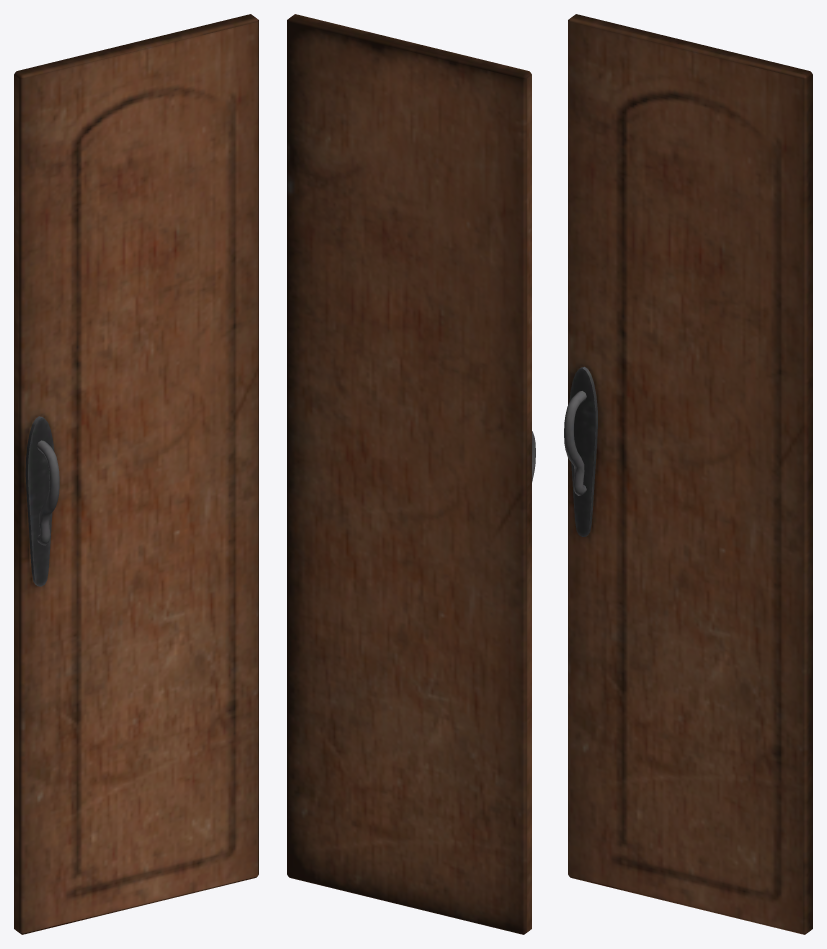
Rendered from Wardrobe_Right.fbx.
3 views of the same model, side by side, from view 1: azimuth 30°, elevation 25°; view 2: azimuth 150°, elevation 25°; view 3: azimuth 330°, elevation 25° (orthographic).
Parts seen in each view (by area): view 1: WardrobeCoverRight_LOD0; view 2: WardrobeCoverRight_LOD0; view 3: WardrobeCoverRight_LOD0.
Boxes of the visible parts, bbox=[...] form: WardrobeCoverRight_LOD0: bbox=[14, 14, 258, 934]; WardrobeCoverRight_LOD0: bbox=[287, 14, 535, 934]; WardrobeCoverRight_LOD0: bbox=[564, 14, 812, 934].
Size of the model in its own units: 18.18 by 62.37 by 3.5.
